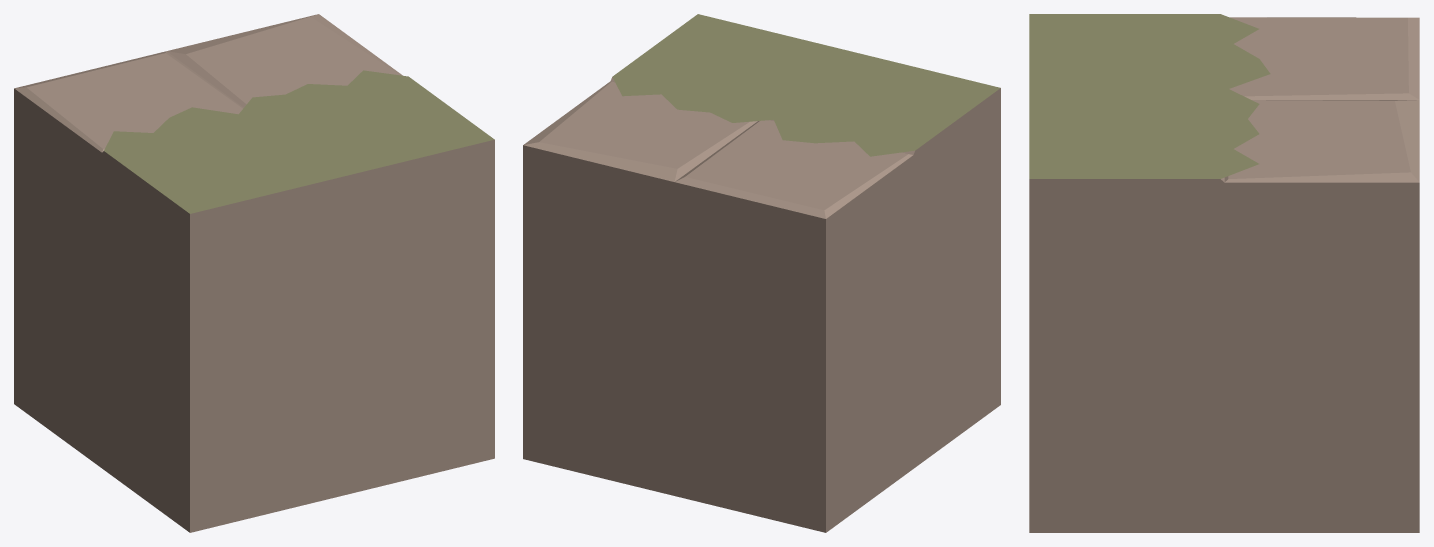
Rendered from Floor_1-3.fbx.
The picture shows the model from 3 angles, left to right: view 1: azimuth 30°, elevation 25°; view 2: azimuth 150°, elevation 25°; view 3: azimuth 270°, elevation 25°; orthographic projection. The views are drawn at different scales.
Visible parts, largest first — view 1: Floor_1-3; view 2: Floor_1-3; view 3: Floor_1-3.
Boxes of the visible parts, x1,y1,x2,y2 form: Floor_1-3: (14,14,494,532); Floor_1-3: (523,14,1000,532); Floor_1-3: (1029,14,1419,532).
Bounding box in the file's own units: 1 × 1 × 1.
